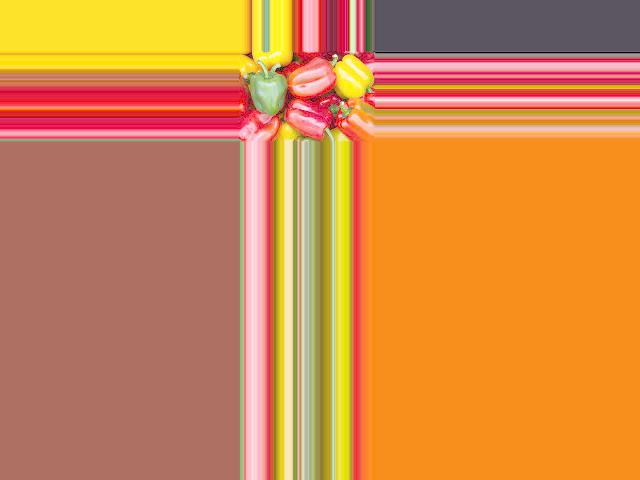bell_pepper: (332, 52, 373, 101)
